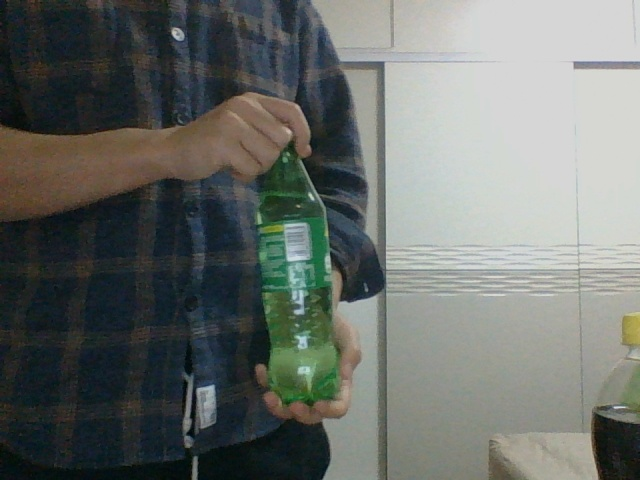Sprite: (257, 130, 339, 400)
